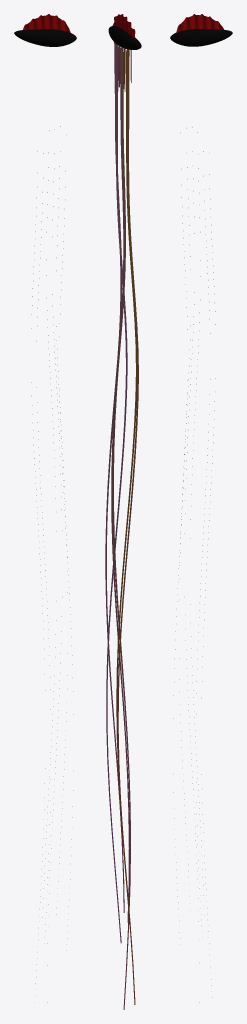
The model's file is man_o_war_game.glb.
3 views of the same model, side by side, from view 1: azimuth 90°, elevation 25°; view 2: azimuth 210°, elevation 25°; view 3: azimuth 270°, elevation 25° (orthographic).
Visible parts, largest first — view 1: man_o_war_game; view 2: man_o_war_game; view 3: man_o_war_game.
Part boxes in pixels (left/top/right/bottom): man_o_war_game: left=14, top=14, right=76, bottom=1002; man_o_war_game: left=105, top=14, right=141, bottom=1009; man_o_war_game: left=170, top=14, right=232, bottom=1002.
Bounding box in the file's own units: 0.0853 × 4.38 × 0.25.
